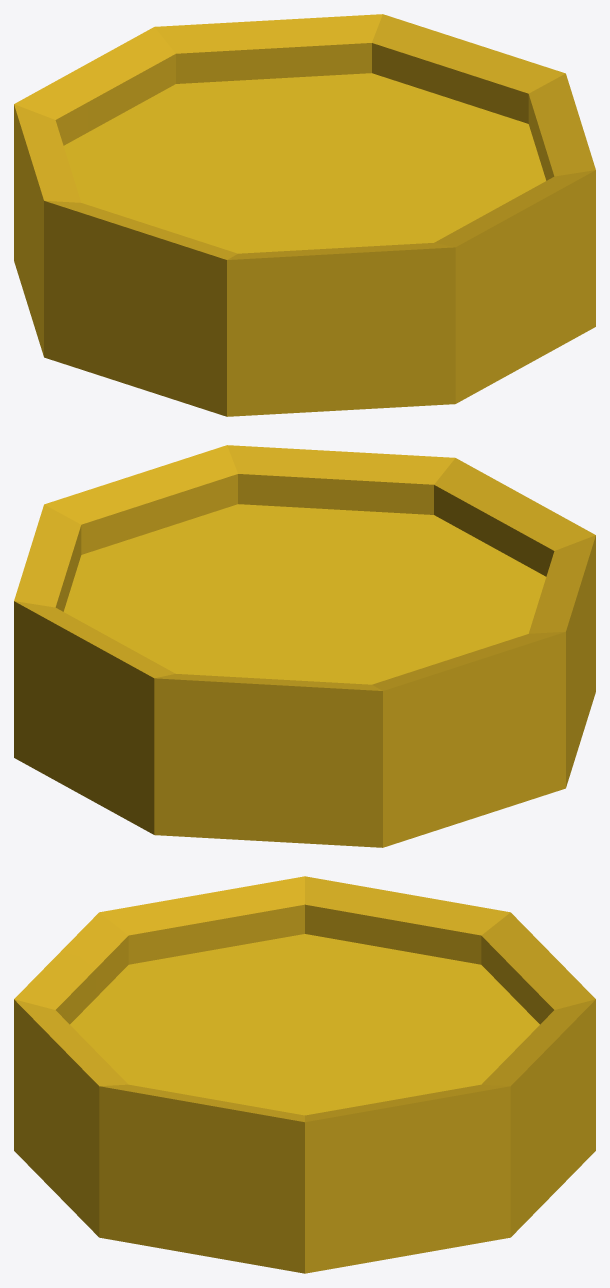
Rendered from piece d'or.fbx.
3 views of the same model, one above another, from view 1: azimuth 30°, elevation 25°; view 2: azimuth 150°, elevation 25°; view 3: azimuth 270°, elevation 25° (orthographic). The views are drawn at different scales.
Visible parts, largest first — view 1: piece d'or; view 2: piece d'or; view 3: piece d'or.
Boxes of the visible parts, x1,y1,x2,y2 form: piece d'or: (14,14,595,416); piece d'or: (14,445,595,847); piece d'or: (14,876,595,1273).
Size of the model in its own units: 37.99 by 10.91 by 37.99.
